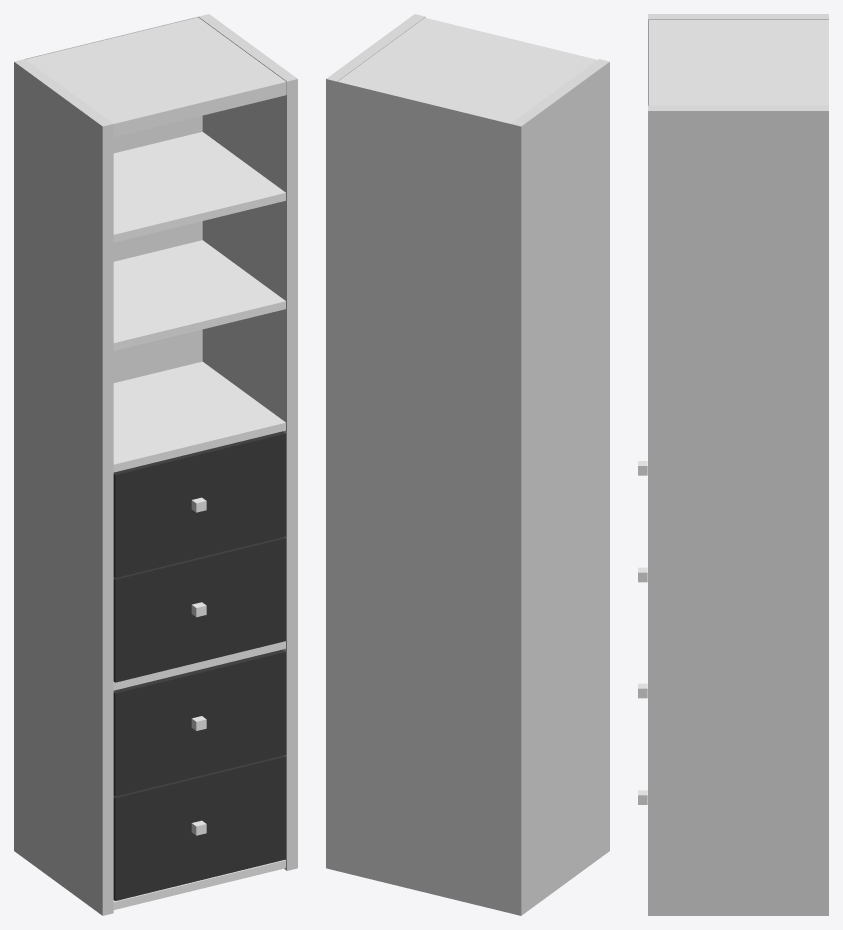
Rendered from shelf_058.glb.
3 views of the same model, side by side, from view 1: azimuth 30°, elevation 25°; view 2: azimuth 150°, elevation 25°; view 3: azimuth 270°, elevation 25° (orthographic).
Visible parts, largest first — view 1: shelf_058; view 2: shelf_058; view 3: shelf_058.
Part boxes in pixels (x1,y1,x2,y2): shelf_058: [14, 14, 297, 915]; shelf_058: [326, 14, 609, 915]; shelf_058: [638, 14, 828, 915].
Bounding box in the file's own units: 0.6366 × 2.46 × 0.5287.
Materials: 1 (1 with a texture image).
